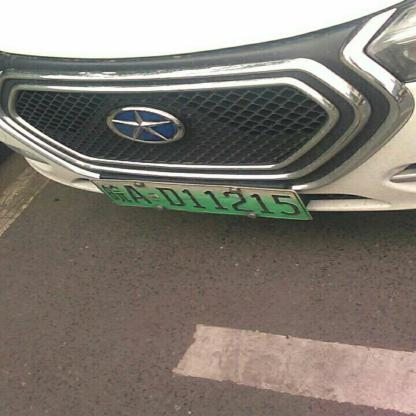lp: (92, 180, 310, 220)
